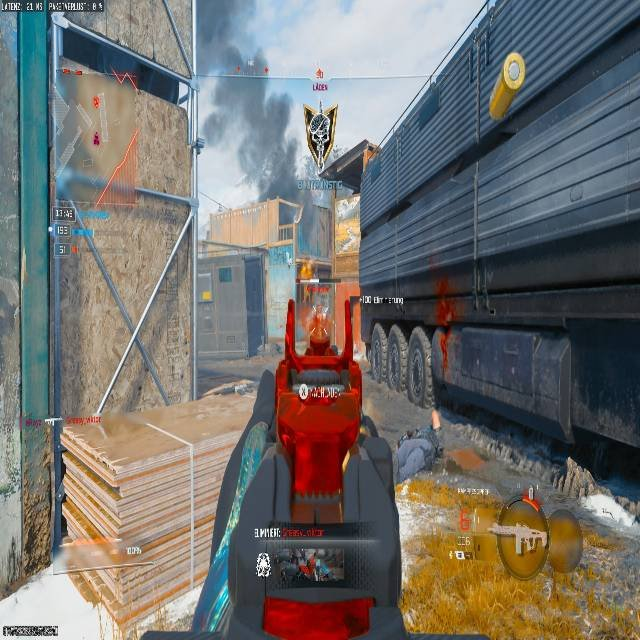player: (306, 306, 333, 354), (273, 342, 282, 353)
